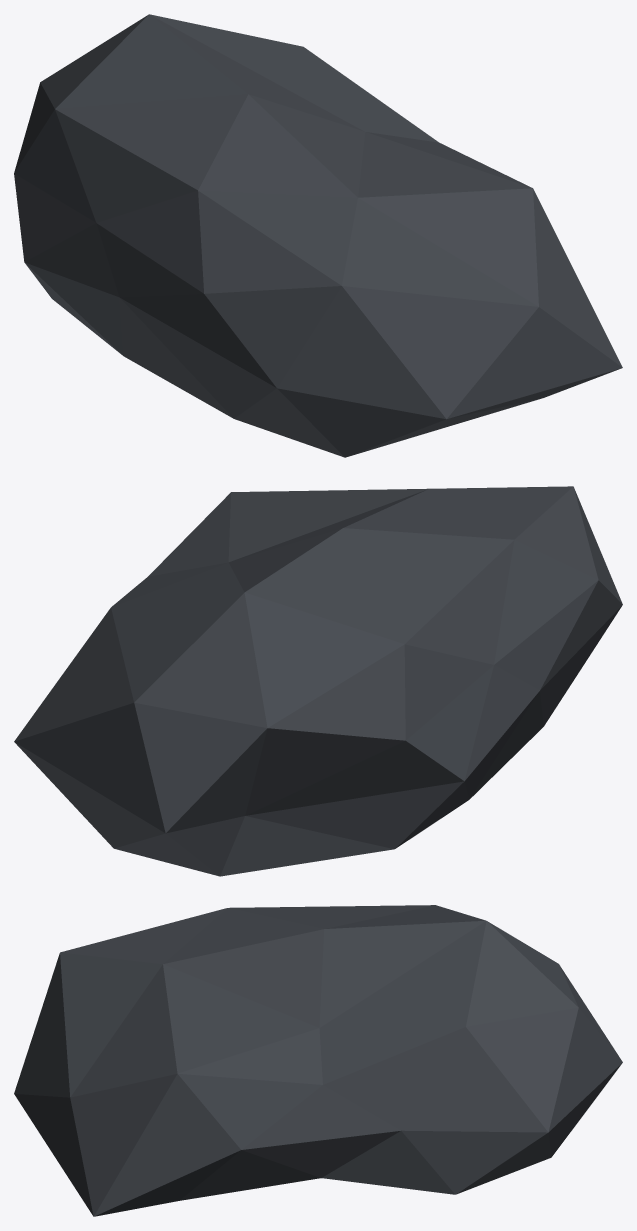
The model's file is rock_2.fbx.
The picture shows the model from 3 angles, top to bottom: view 1: azimuth 30°, elevation 25°; view 2: azimuth 150°, elevation 25°; view 3: azimuth 270°, elevation 25°; orthographic projection. The views are drawn at different scales.
Visible parts, largest first — view 1: rock_2; view 2: rock_2; view 3: rock_2.
Part boxes in pixels (box(x1,y1,x2,y2)): rock_2: box(14, 14, 622, 457); rock_2: box(14, 486, 622, 876); rock_2: box(14, 905, 622, 1216).
Size of the model in its own units: 34.52 by 20.27 by 53.57.
Materials: 1 (1 with a texture image).
